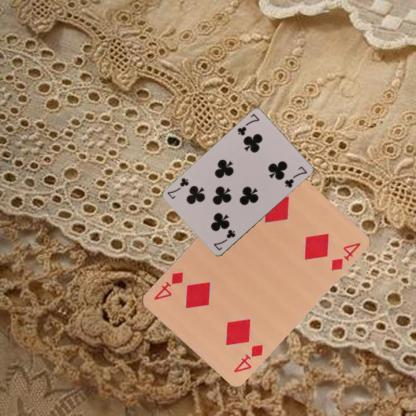4d: (231, 341, 264, 374)
7c: (211, 227, 237, 252), (235, 111, 260, 137)
